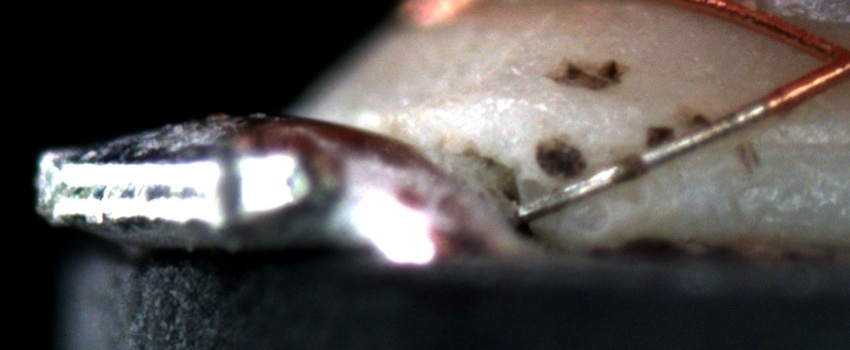CL: (799, 29, 849, 89)
DL: (751, 121, 849, 178)
TS: (516, 101, 767, 221)
